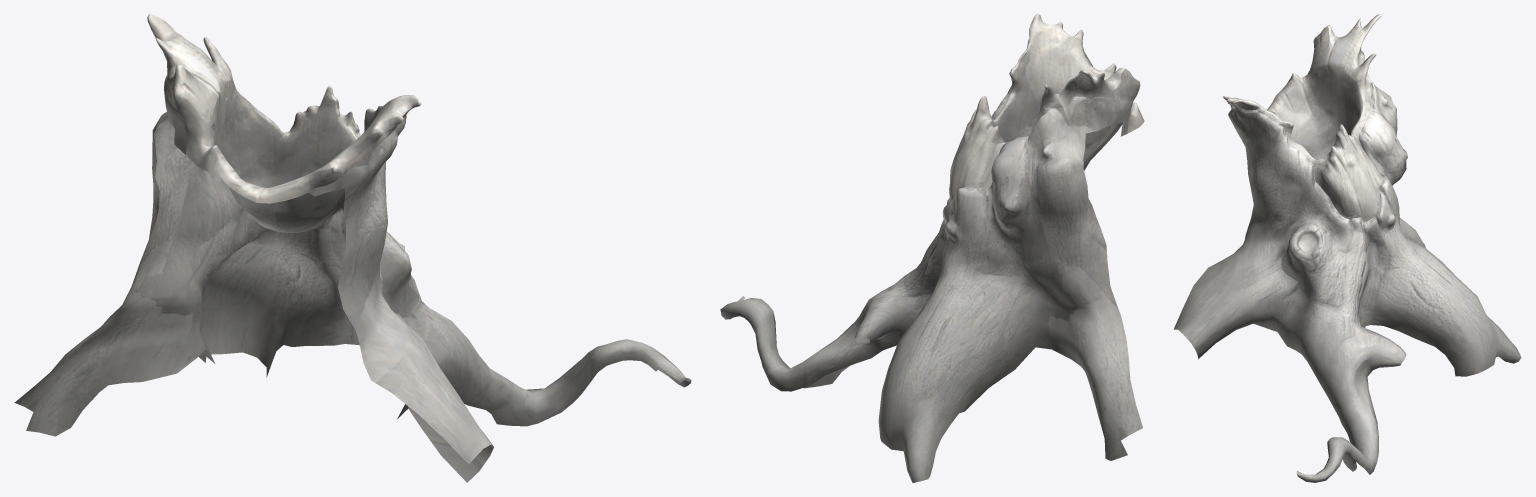
File: tree_gnarly001.fbx
3 views of the same model, side by side, from view 1: azimuth 30°, elevation 25°; view 2: azimuth 150°, elevation 25°; view 3: azimuth 270°, elevation 25° (orthographic). The views are drawn at different scales.
Visible parts, largest first — view 1: tree_gnarly001; view 2: tree_gnarly001; view 3: tree_gnarly001.
Boxes of the visible parts, x1,y1,x2,y2 form: tree_gnarly001: [14, 14, 691, 482]; tree_gnarly001: [720, 14, 1144, 482]; tree_gnarly001: [1173, 14, 1521, 482].
Bounding box in the file's own units: 599 × 474 × 449.
